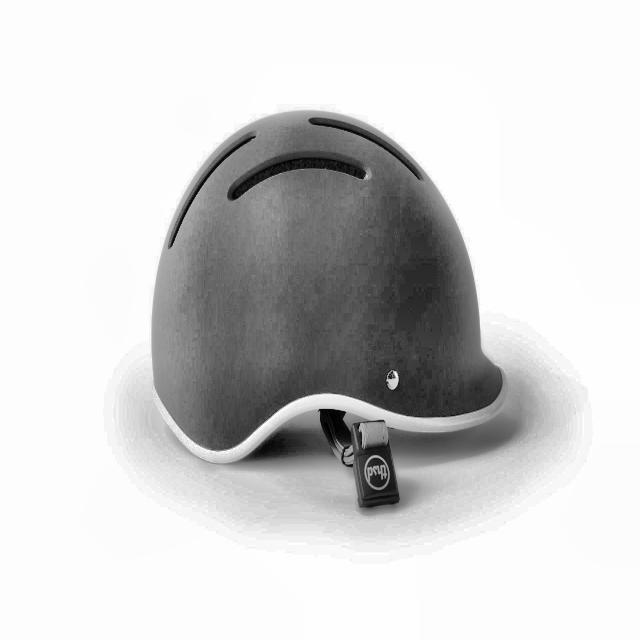Helmet: (141, 107, 514, 509)
